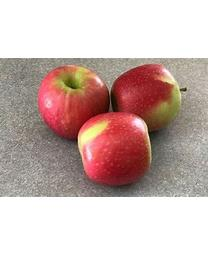apple: (76, 111, 151, 186), (37, 63, 109, 139), (110, 62, 183, 131)
